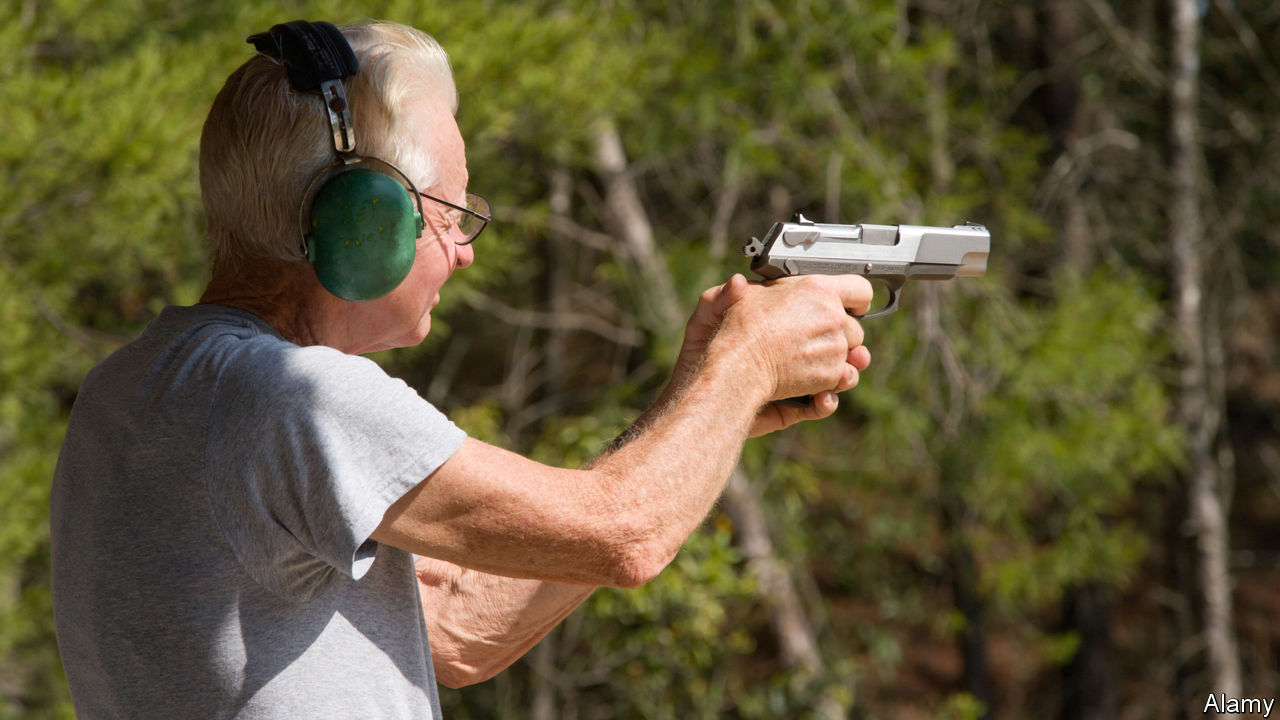Gun: (763, 196, 1009, 294)
